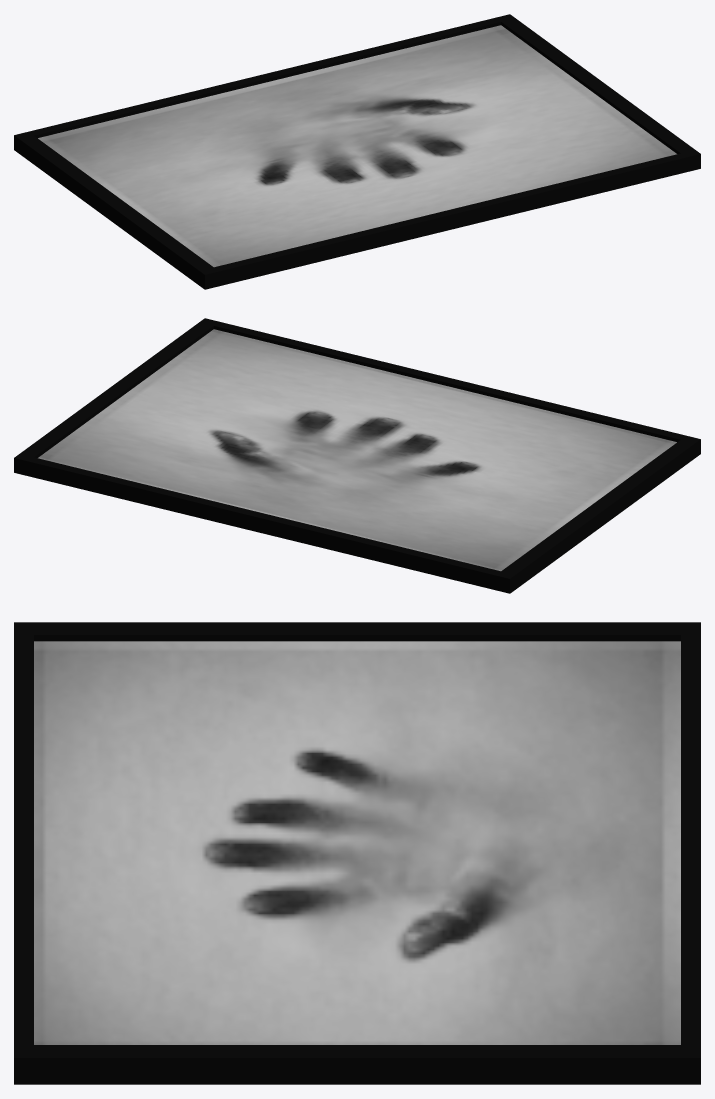
The model's file is KorkuTablo1.fbx.
3 views of the same model, one above another, from view 1: azimuth 30°, elevation 25°; view 2: azimuth 150°, elevation 25°; view 3: azimuth 270°, elevation 25° (orthographic). The views are drawn at different scales.
Parts seen in each view (by area): view 1: Cube.007; view 2: Cube.007; view 3: Cube.007.
Boxes of the visible parts, box(x1,y1,x2,y2) form: Cube.007: box(14, 14, 700, 289); Cube.007: box(14, 318, 700, 593); Cube.007: box(14, 622, 700, 1084).
Bounding box in the file's own units: 105 × 3 × 70.
2 materials, 1 textured.
